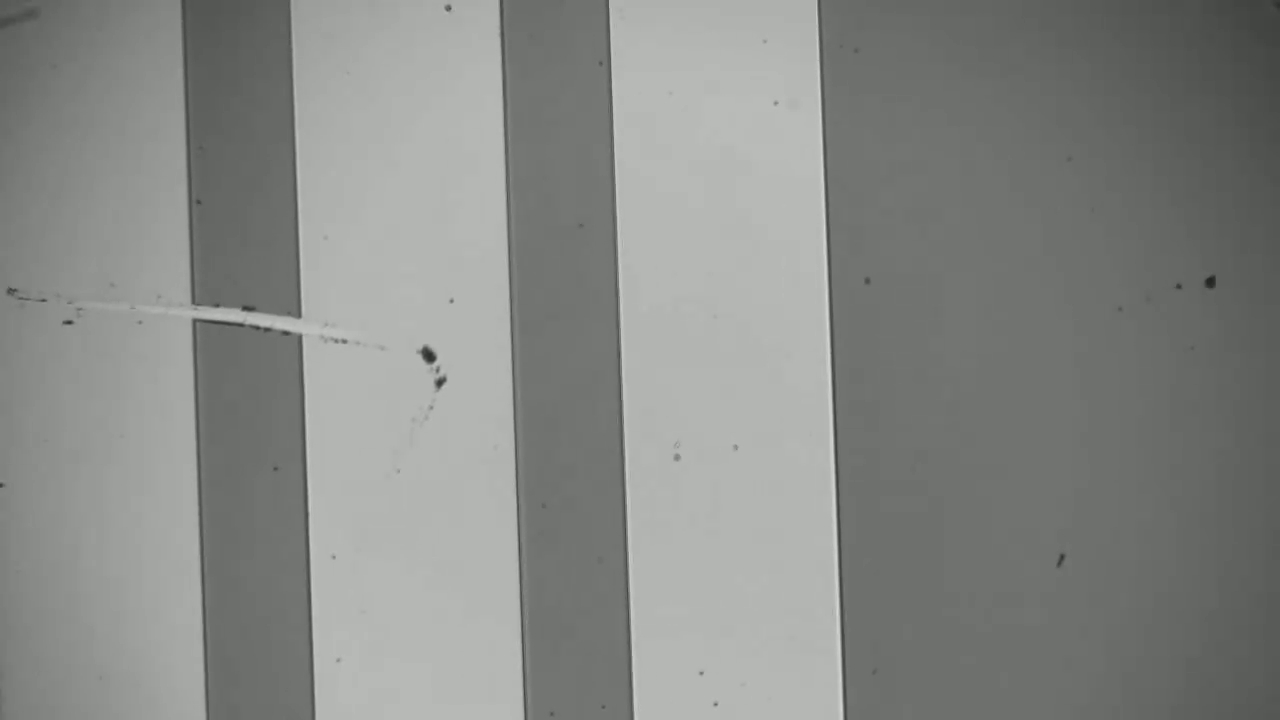Short_circuit: (162, 283, 331, 353)
